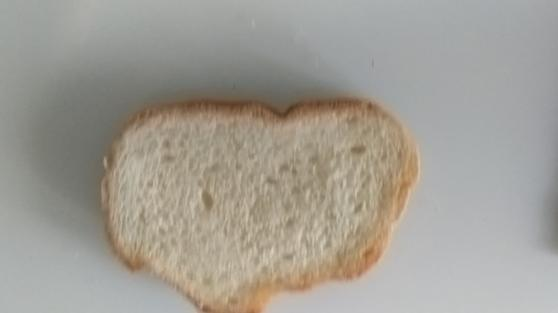white_bread: (100, 97, 423, 313)
